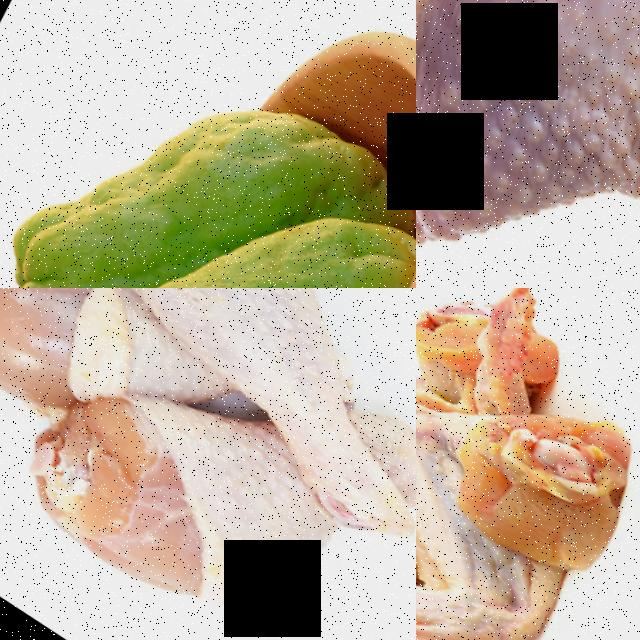chayote: (0, 0, 236, 288), (48, 194, 383, 288)
chicken thigh: (0, 335, 350, 640), (0, 288, 416, 540), (416, 0, 640, 288)
chicken wing: (416, 293, 640, 640)
